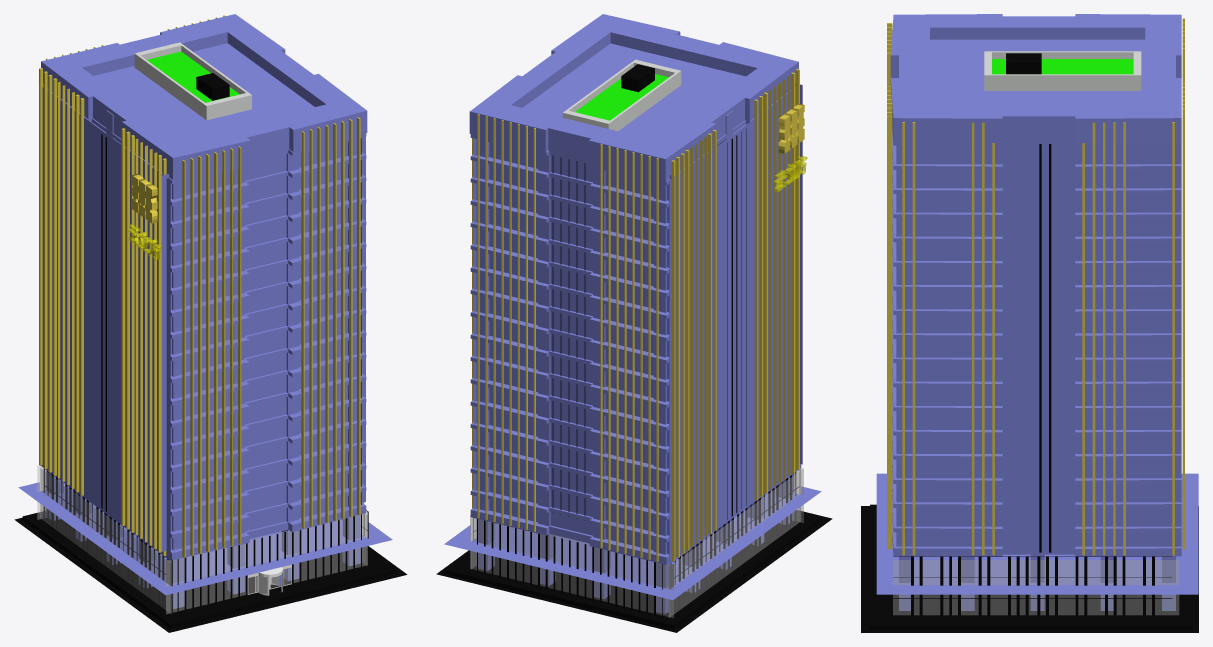
File: floor1zip.glb
3 renders of one model, left to right at view 1: azimuth 30°, elevation 25°; view 2: azimuth 150°, elevation 25°; view 3: azimuth 270°, elevation 25°, orthographic. The views are drawn at different scales.
Parts seen in each view (by area): view 1: glass; view 2: glass; view 3: glass.
Part boxes in pixels (bbox=[...]): glass: bbox=[14, 14, 407, 632]; glass: bbox=[436, 14, 832, 632]; glass: bbox=[861, 14, 1198, 632].
Bounding box in the file's own units: 42 × 79.54 × 47.19.
